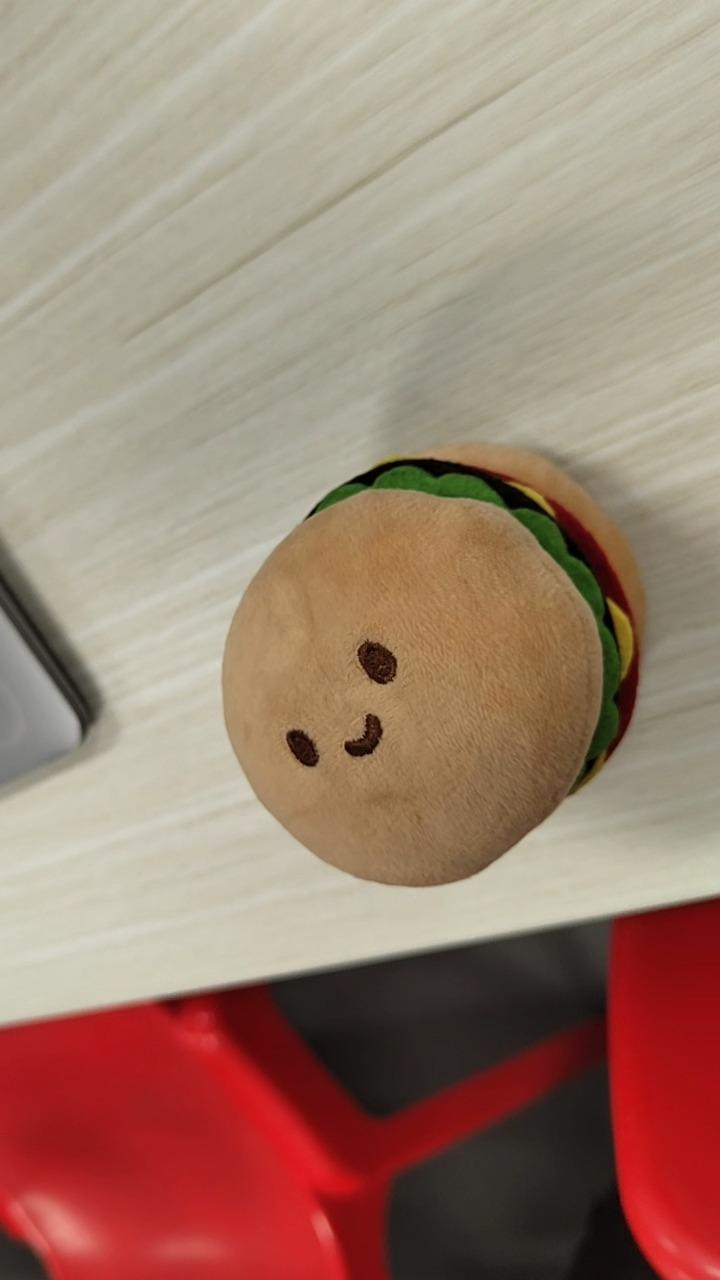hamburger: (219, 439, 647, 888)
